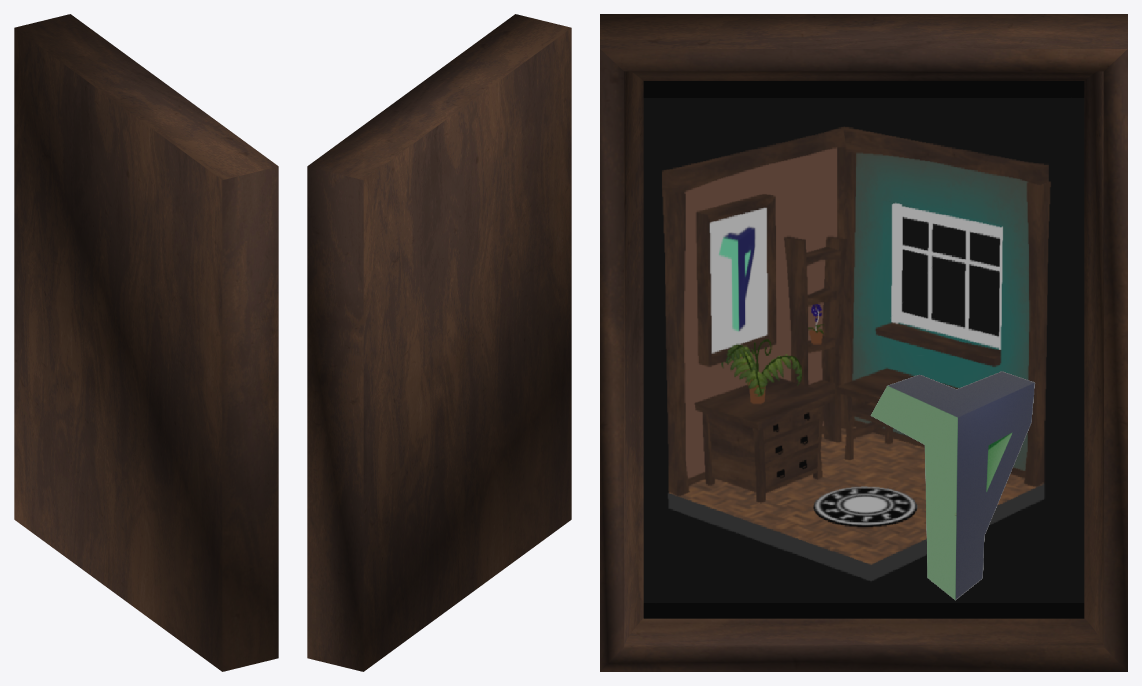
The model's file is cube_diorama-frame.glb.
3 views of the same model, side by side, from view 1: azimuth 30°, elevation 25°; view 2: azimuth 150°, elevation 25°; view 3: azimuth 270°, elevation 25° (orthographic). The views are drawn at different scales.
Parts seen in each view (by area): view 1: Picture Frame - 4 Shells in the Sand.001; view 2: Picture Frame - 4 Shells in the Sand.001; view 3: Picture Frame - 4 Shells in the Sand.001.
Part boxes in pixels (x1,y1,x2,y2): Picture Frame - 4 Shells in the Sand.001: (14, 14, 278, 671); Picture Frame - 4 Shells in the Sand.001: (307, 14, 571, 671); Picture Frame - 4 Shells in the Sand.001: (600, 14, 1127, 671).
Bounding box in the file's own units: 0.114 × 0.9505 × 0.7296.
2 materials, 2 textured.
